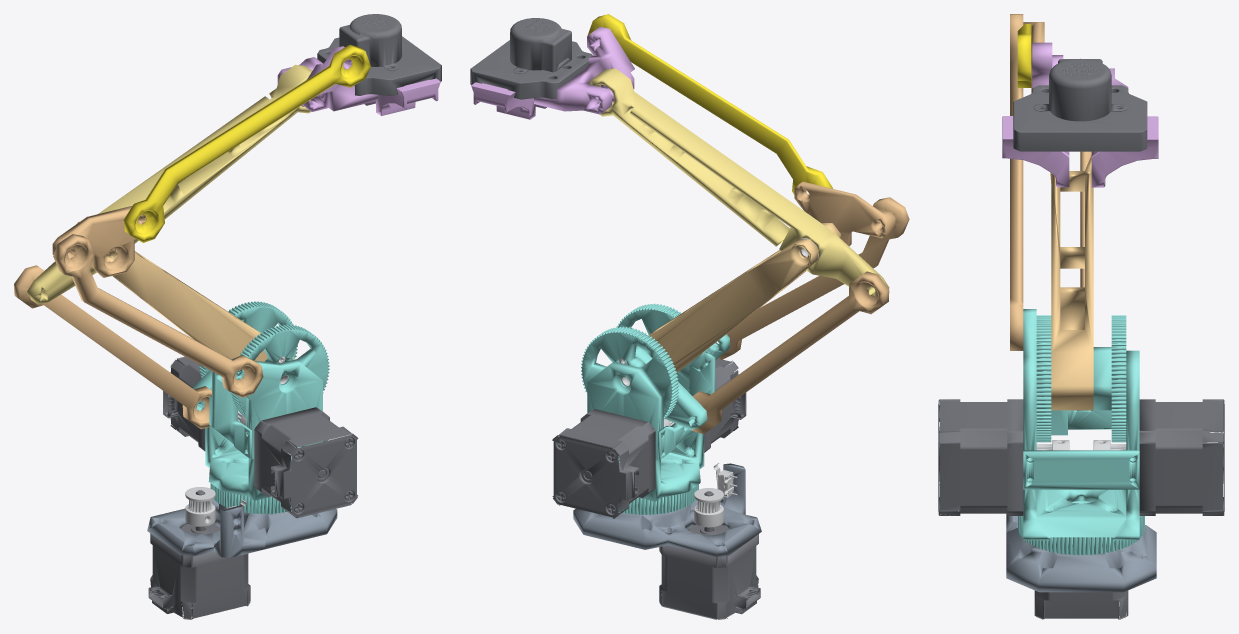
The model's file is arm.glb.
3 views of the same model, side by side, from view 1: azimuth 30°, elevation 25°; view 2: azimuth 150°, elevation 25°; view 3: azimuth 270°, elevation 25° (orthographic). The views are drawn at different scales.
Parts seen in each view (by area): view 1: NEMA_17, upper_levelling_link_140_(BAM-made), NEMA_17_(yaw), main_body, socket, lower_levelling_link_140, lower_shank_140, upper_shank_140, pleuel, triplate, 90T_gear_(lower), gripper_motor_(28BYJ;_ref_arm_uses_a_servo) (+8 smaller); view 2: upper_shank_140, NEMA_17_2, lower_shank_140, NEMA_17_(yaw), main_body, socket, upper_levelling_link_140_(BAM-made), pleuel, lower_levelling_link_140, 90T_gear_(upper), manipulator, triplate (+9 smaller); view 3: NEMA_17_2, NEMA_17, main_body, lower_shank_140, socket, gripper_motor_(28BYJ;_ref_arm_uses_a_servo), stabilizer, gripper_motor_(28BYJ;_ref_arm_uses_a_servo)_2, lower_levelling_link_140, NEMA_17_(yaw), 90T_gear_(lower), 90T_gear_(upper) (+9 smaller).
Boxes of the visible parts, x1,y1,x2,y2 form: NEMA_17: (254, 407, 358, 518); upper_levelling_link_140_(BAM-made): (123, 44, 370, 242); NEMA_17_(yaw): (148, 490, 250, 619); main_body: (205, 358, 322, 500); socket: (147, 499, 337, 557); lower_levelling_link_140: (53, 234, 263, 397); lower_shank_140: (77, 221, 295, 361); upper_shank_140: (27, 64, 312, 304); pleuel: (14, 265, 211, 429); triplate: (52, 206, 146, 277); 90T_gear_(lower): (231, 324, 329, 417); gripper_motor_(28BYJ;_ref_arm_uses_a_servo): (317, 36, 441, 96); upper_shank_140: (589, 68, 889, 295); NEMA_17_2: (552, 409, 655, 518); lower_shank_140: (649, 223, 840, 373); NEMA_17_(yaw): (659, 491, 760, 619); main_body: (587, 334, 729, 501); socket: (573, 463, 761, 556); upper_levelling_link_140_(BAM-made): (587, 14, 832, 194); pleuel: (692, 271, 889, 433); lower_levelling_link_140: (718, 197, 909, 359); 90T_gear_(upper): (581, 326, 678, 419); manipulator: (534, 26, 634, 114); triplate: (794, 181, 895, 246); NEMA_17_2: (1139, 399, 1224, 515); NEMA_17: (938, 399, 1023, 515); main_body: (1023, 309, 1139, 540); lower_shank_140: (1050, 155, 1093, 410); socket: (1006, 513, 1156, 592); gripper_motor_(28BYJ;_ref_arm_uses_a_servo): (1013, 85, 1147, 151); stabilizer: (1023, 450, 1139, 489); gripper_motor_(28BYJ;_ref_arm_uses_a_servo)_2: (1033, 58, 1127, 121); lower_levelling_link_140: (1010, 14, 1023, 350); NEMA_17_(yaw): (1034, 590, 1128, 619); 90T_gear_(lower): (1036, 315, 1051, 442); 90T_gear_(upper): (1111, 315, 1126, 442).
Bounding box in the file's own units: 0.2426 × 0.315 × 0.128.
